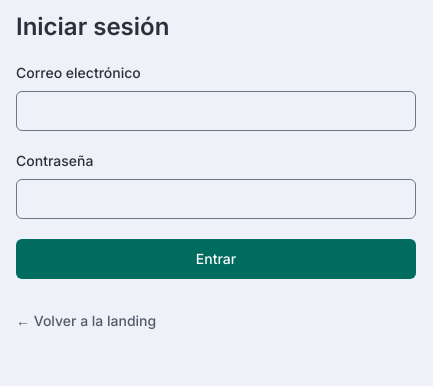
Scenario: LoginForm › keeps the form and shows a localized error when login fails
Type "user@example.com" into the field labelled "Correo electrónico".
click(216, 111); type("user@example.com")  # box [16,91,416,131]
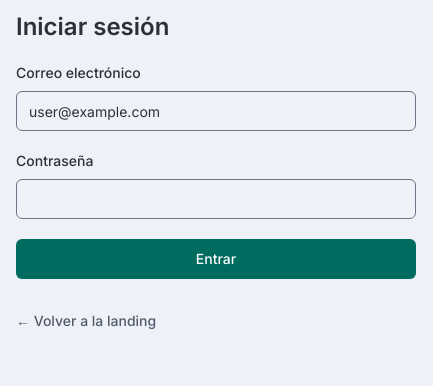
Type "wrong" into the password field labelled "Contraseña".
click(216, 199); type("wrong")  # box [16,179,416,219]
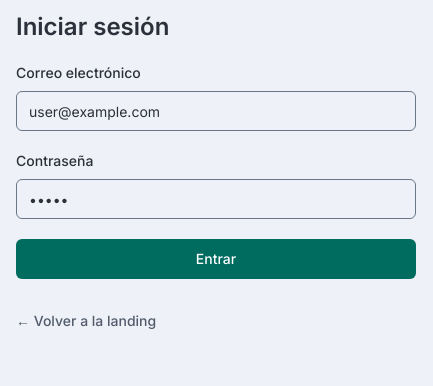
Click the button "Entrar".
click(216, 259)  # box [16,239,416,279]
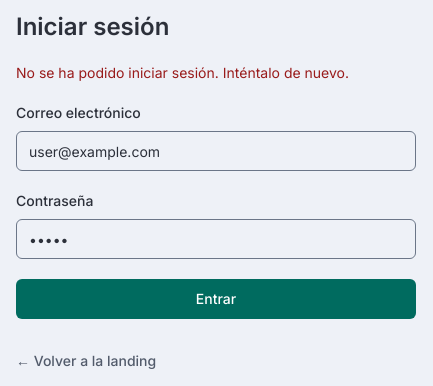
Check: the message reads "No se ha podido iniciar sesión. Inténtalo de nuevo.", box [16,64,349,81]
